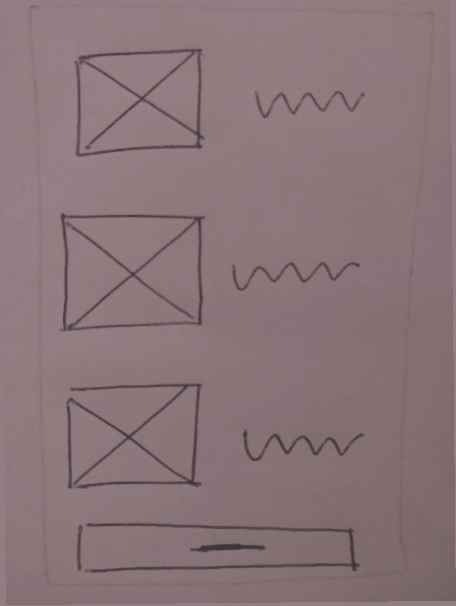button: (58, 514, 369, 575)
image: (55, 203, 208, 335), (55, 374, 208, 506), (68, 45, 211, 164)
text: (223, 248, 368, 303), (230, 415, 375, 470), (248, 74, 368, 139)
